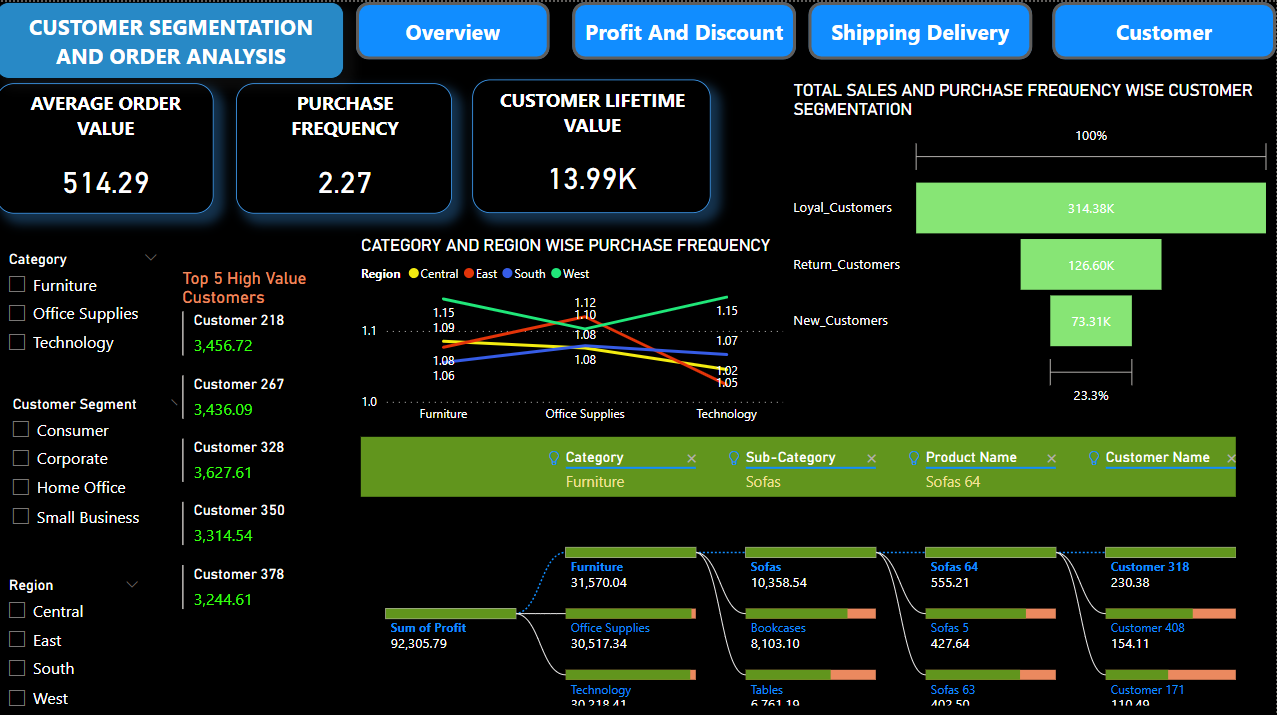

What the dashboard file says about the page in this screenshot:
{"tool":"powerbi","page":{"name":"Customer ","canvas":[1280,720],"ordinal":3},"visuals":[{"type":"decompositionTreeVisual","fields":{"Analyze":["Sum(Superstore.Profit)"],"ExplainBy":["Superstore.Category","Superstore.Sub-Category","Superstore.Product Name","Superstore.Customer Name"]},"box":[360,430,885,278.8],"z":0},{"type":"textbox","box":[0,0,348.4,77],"z":1000},{"type":"cardVisual","title":"AVERAGE ORDER VALUE","fields":{"Data":["Superstore.Avg_Order_Value"]},"box":[0,81.2,217.5,130],"z":2000},{"type":"cardVisual","title":"PURCHASE FREQUENCY","fields":{"Data":["Superstore.Purchase_Frequency"]},"box":[240,81.2,216.2,130],"z":3000},{"type":"cardVisual","title":"CUSTOMER LIFETIME VALUE","fields":{"Data":["Superstore.Customer_Lifetime_Value"]},"box":[476.2,77.5,238.8,133.8],"z":4000},{"type":"slicer","fields":{"Values":["Superstore.Category"]},"box":[0,243.8,173.8,145],"z":5000},{"type":"slicer","fields":{"Values":["Superstore.Customer Segment"]},"box":[0,388.8,181.2,150],"z":6000},{"type":"slicer","fields":{"Values":["Superstore.Region"]},"box":[0,570,155,150],"z":7000},{"type":"funnel","title":"TOTAL SALES AND PURCHASE FREQUENCY WISE  CUSTOMER SEGMENTATION","fields":{"Category":["Superstore.Customer_Type"],"Y":["Sum(Superstore.Sales Amount)"]},"box":[792.3,77.2,487.7,331.8],"z":8000},{"type":"multiRowCard","title":"Top 5 High Value Customers","fields":{"Values":["Superstore.Customer Name","Sum(Superstore.Sales Amount)"]},"box":[181.2,266.2,148.8,453.8],"z":9000},{"type":"lineChart","title":"CATEGORY AND REGION WISE PURCHASE FREQUENCY","fields":{"Y":["Superstore.Purchase_Frequency"],"Category":["Superstore.Category"],"Series":["Superstore.Region"]},"box":[360,232.5,432.5,197.5],"z":10000},{"type":"actionButton","box":[576.2,0,223.8,57.5],"z":11000},{"type":"actionButton","box":[360,0,193.8,57.5],"z":12000},{"type":"actionButton","box":[812.5,0,223.8,57.5],"z":13000},{"type":"actionButton","box":[1056.2,0,223.8,57.5],"z":14000}]}

Visuals, with their boxes in screenshot pixels (x1, y1, x2, y2), scaled from the page's 1280x720 canvas onto the 1277x715 screenshot:
decompositionTreeVisual - Sum(Superstore.Profit) x Superstore.Category: [359,427,1242,704]
textbox: [0,0,348,76]
"AVERAGE ORDER VALUE" cardVisual: [0,81,217,210]
"PURCHASE FREQUENCY" cardVisual: [239,81,455,210]
"CUSTOMER LIFETIME VALUE" cardVisual: [475,77,713,210]
slicer - Superstore.Category: [0,242,173,386]
slicer - Superstore.Customer Segment: [0,386,181,535]
slicer - Superstore.Region: [0,566,155,714]
"TOTAL SALES AND PURCHASE FREQUENCY WISE  CUSTOMER SEGMENTATION" funnel: [790,77,1276,406]
"Top 5 High Value Customers" multiRowCard: [181,264,329,714]
"CATEGORY AND REGION WISE PURCHASE FREQUENCY" lineChart: [359,231,791,427]
actionButton: [575,0,798,57]
actionButton: [359,0,553,57]
actionButton: [811,0,1034,57]
actionButton: [1054,0,1276,57]
